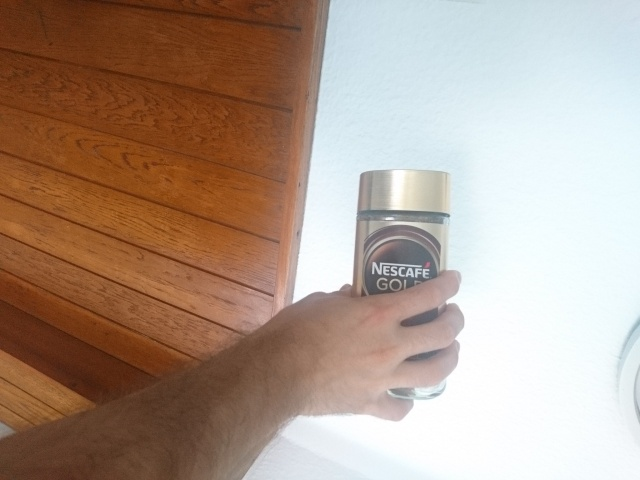Nescafe Gold 225g: (343, 165, 454, 401)
